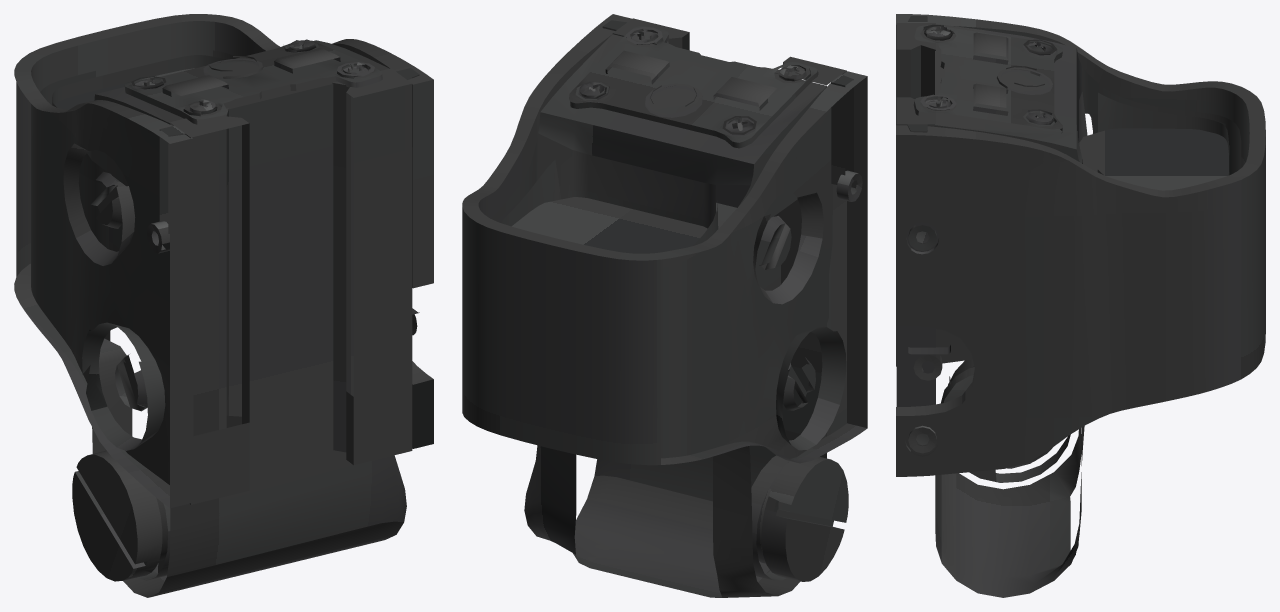
File: Optic_Holo.fbx
3 renders of one model, left to right at view 1: azimuth 30°, elevation 25°; view 2: azimuth 150°, elevation 25°; view 3: azimuth 270°, elevation 25°, orthographic. The views are drawn at different scales.
Parts seen in each view (by area): view 1: asset_Optic_Holo.001; view 2: asset_Optic_Holo.001; view 3: asset_Optic_Holo.001.
Part boxes in pixels (x1=…): asset_Optic_Holo.001: x1=14, y1=14, x2=433, y2=597; asset_Optic_Holo.001: x1=462, y1=14, x2=867, y2=597; asset_Optic_Holo.001: x1=896, y1=14, x2=1265, y2=597.
Size of the model in its own units: 0.03 by 0.054 by 0.038.
